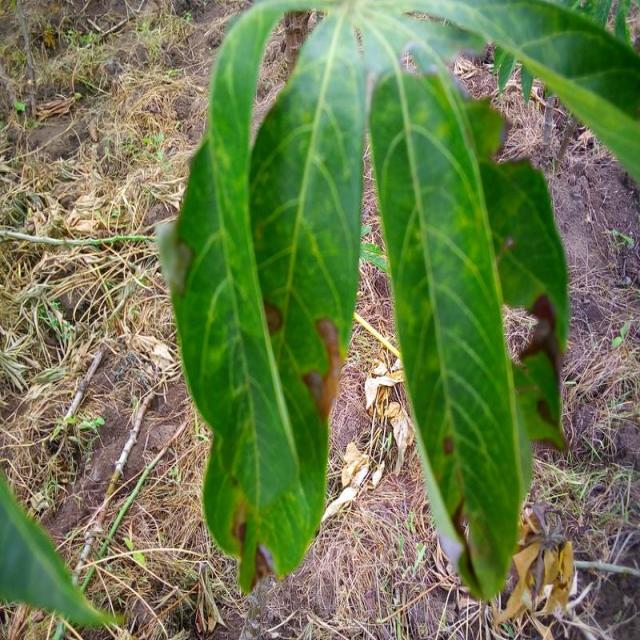cassava leaf: (158, 0, 639, 599), (368, 64, 534, 601)
